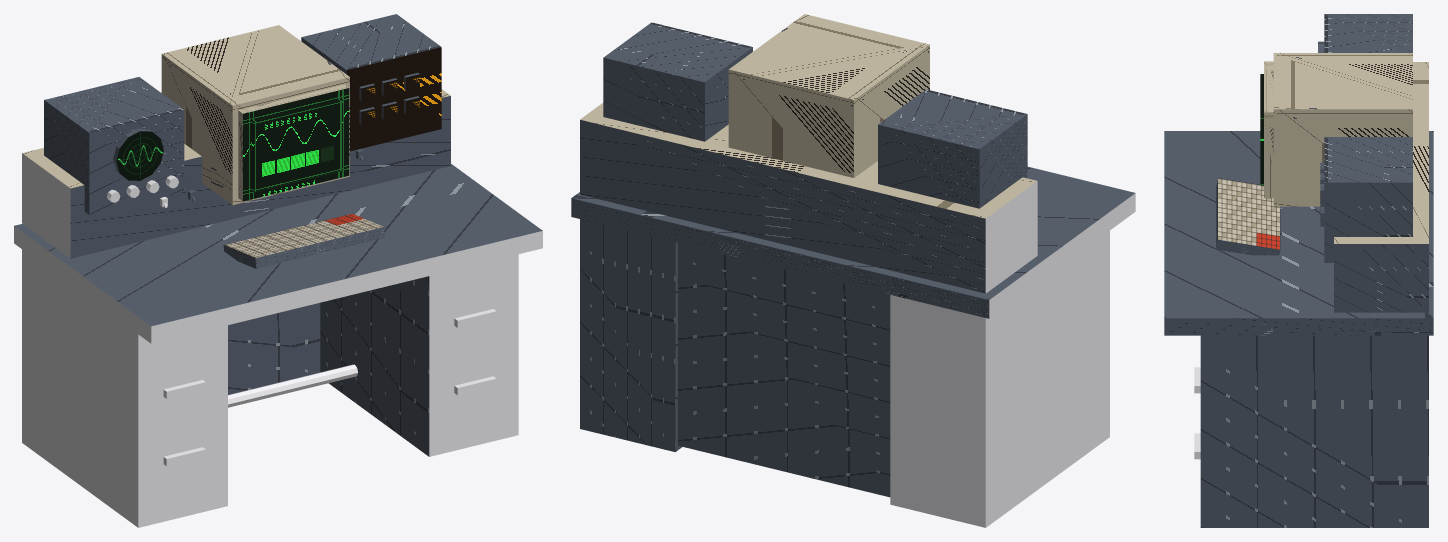
The model's file is crt_station.glb.
3 views of the same model, side by side, from view 1: azimuth 30°, elevation 25°; view 2: azimuth 150°, elevation 25°; view 3: azimuth 270°, elevation 25° (orthographic). The views are drawn at different scales.
Visible parts, largest first — view 1: crt_station; view 2: crt_station; view 3: crt_station.
Boxes of the visible parts, x1,y1,x2,y2 form: crt_station: (14, 14, 542, 527); crt_station: (571, 14, 1135, 527); crt_station: (1164, 14, 1433, 527).
Size of the model in its own units: 1.4 by 1.24 by 0.85.
Materials: 7 (6 with a texture image).
